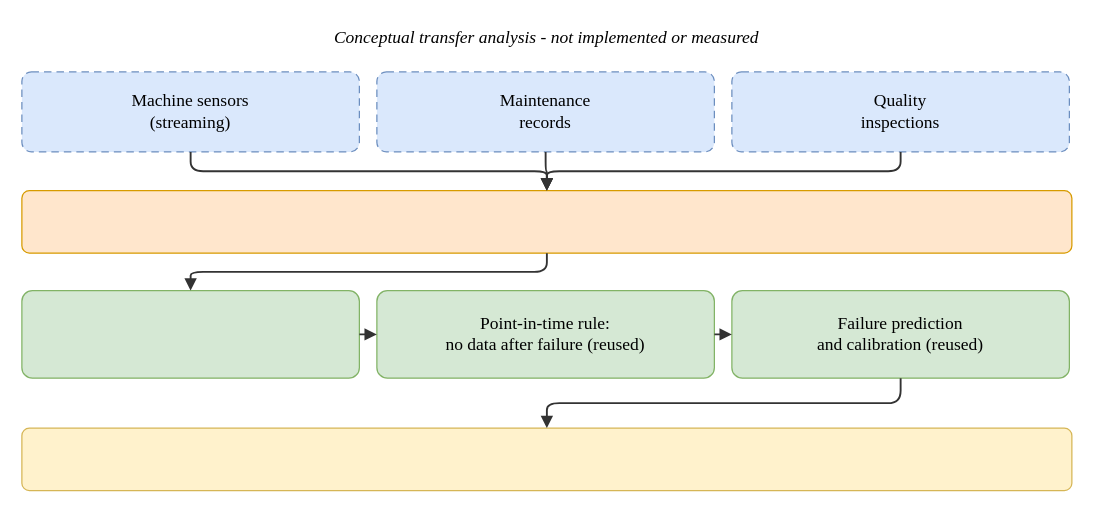
Some shapes in this 1094 by 513 pixel diagram are drawn without their labels. The shapes that lost their labels are listed below. From the top down, each one's box as (x1, y1, x2, y2) in pixels, then its label:
(21, 189, 1072, 253): Governed ingestion: contracts, profiling, quarantine (reused)
(21, 289, 359, 378): Time-series feature templates (new)
(21, 427, 1072, 491): Maintenance planner approves interventions (separation of duties, reused)
